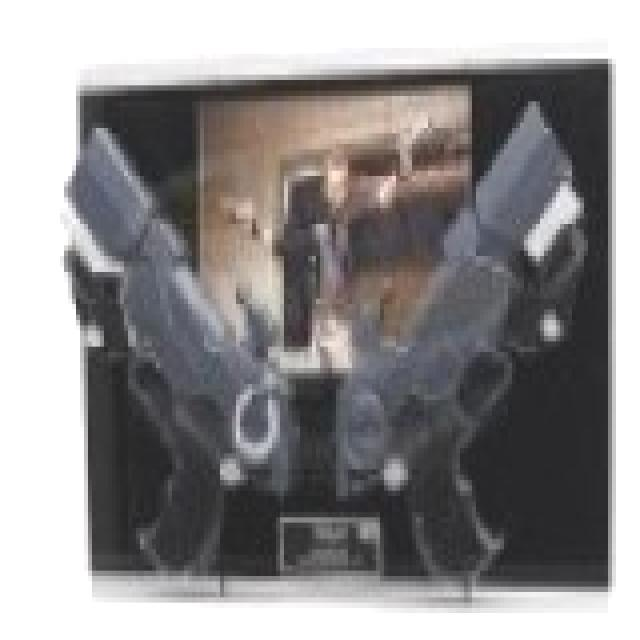pistol: (340, 96, 588, 571), (72, 107, 272, 576)
